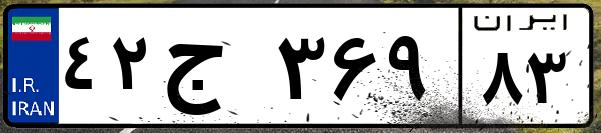2: (110, 28, 158, 98)
3: (270, 28, 330, 110), (525, 38, 570, 115)
4: (57, 26, 110, 100)
6: (330, 28, 385, 110)
8: (475, 38, 525, 113)
9: (385, 28, 445, 110)
ج: (158, 20, 270, 120)
